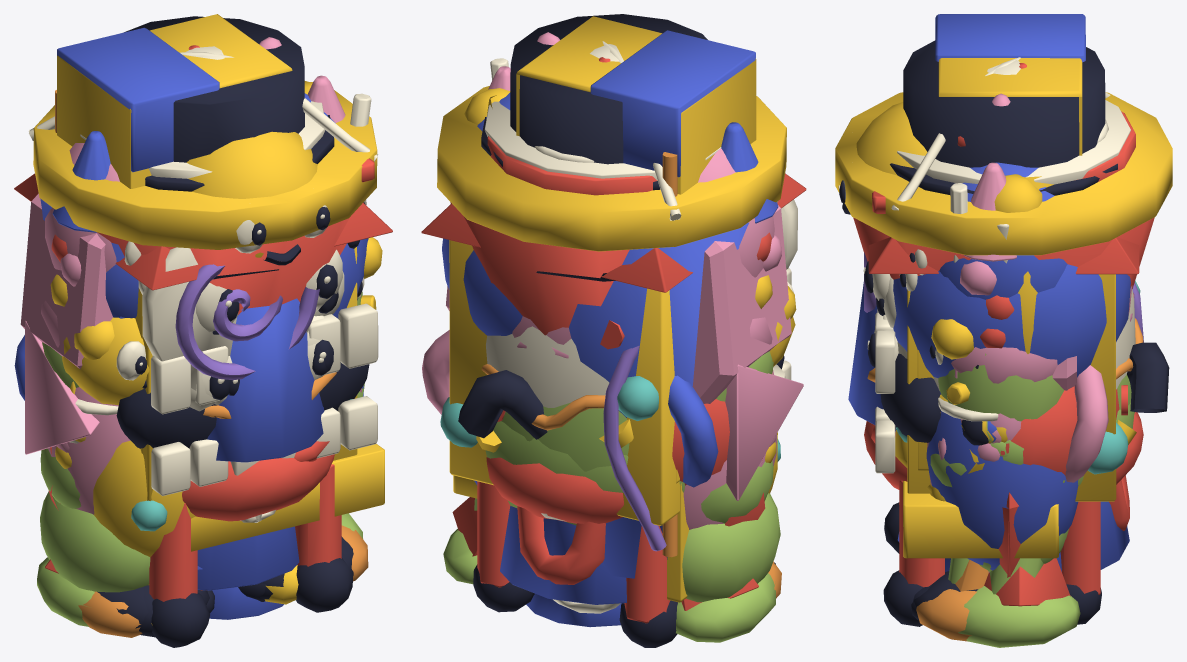
File: toy-racers-economy.glb
3 renders of one model, left to right at view 1: azimuth 30°, elevation 25°; view 2: azimuth 150°, elevation 25°; view 3: azimuth 270°, elevation 25°, orthographic. The views are drawn at different scales.
Parts seen in each view (by area): view 1: heckler_toy-yellow.001, mouth_toy-paper.001, centaur_toy-blue.001, centaur_toy-red.001, stickler_toy-blue.001, stickler_toy-yellow.001, magician_toy-ink.001, sisyphus_toy-yellow.001, centaur_toy-yellow.001, romantic_toy-pink.001, inchworm_toy-green.001, heckler_toy-red.001 (+30 smaller); view 2: heckler_toy-yellow.001, dicemonger_toy-yellow.001, stickler_toy-yellow.001, stickler_toy-blue.001, centaur_toy-red.001, hypnotist_toy-blue.001, magician_toy-ink.001, romantic_toy-pink.001, heckler_toy-red.001, leaptoad_toy-green.001, centaur_toy-ink.001, inchworm_toy-green.001 (+25 smaller); view 3: heckler_toy-yellow.001, magician_toy-ink.001, twin_toy-blue.001, sisyphus_toy-blue.001, stickler_toy-blue.001, centaur_toy-red.001, leaptoad_toy-green.001, scoocher_toy-yellow.001, stickler_toy-yellow.001, centaur_toy-ink.001, inchworm_toy-green.001, dicemonger_toy-yellow.001 (+33 smaller).
Part boxes in pixels (<box>): heckler_toy-yellow.001: <box>33,81,377,249</box>; mouth_toy-paper.001: <box>151,303,378,496</box>; centaur_toy-blue.001: <box>207,298,324,462</box>; centaur_toy-red.001: <box>149,454,341,601</box>; stickler_toy-blue.001: <box>57,27,219,172</box>; stickler_toy-yellow.001: <box>57,14,292,585</box>; magician_toy-ink.001: <box>124,16,304,279</box>; sisyphus_toy-yellow.001: <box>62,317,298,625</box>; centaur_toy-yellow.001: <box>74,131,382,359</box>; romantic_toy-pink.001: <box>20,193,360,369</box>; inchworm_toy-green.001: <box>40,291,364,592</box>; heckler_toy-red.001: <box>97,217,349,314</box>; heckler_toy-yellow.001: <box>437,86,786,251</box>; dicemonger_toy-yellow.001: <box>449,240,679,525</box>; stickler_toy-yellow.001: <box>516,16,756,602</box>; stickler_toy-blue.001: <box>590,30,755,177</box>; centaur_toy-red.001: <box>477,457,670,623</box>; hypnotist_toy-blue.001: <box>569,222,748,578</box>; magician_toy-ink.001: <box>510,14,707,281</box>; romantic_toy-pink.001: <box>446,205,791,403</box>; heckler_toy-red.001: <box>450,202,629,335</box>; leaptoad_toy-green.001: <box>443,421,775,642</box>; centaur_toy-ink.001: <box>458,370,677,647</box>; inchworm_toy-green.001: <box>682,493,780,602</box>; heckler_toy-yellow.001: <box>835,92,1172,255</box>; magician_toy-ink.001: <box>903,40,1105,167</box>; twin_toy-blue.001: <box>926,162,1078,570</box>; sisyphus_toy-blue.001: <box>893,264,1130,377</box>; stickler_toy-blue.001: <box>935,14,1085,62</box>; centaur_toy-red.001: <box>864,412,1143,594</box>; leaptoad_toy-green.001: <box>958,403,1134,647</box>; scoocher_toy-yellow.001: <box>903,481,1058,558</box>; stickler_toy-yellow.001: <box>938,58,1082,155</box>; centaur_toy-ink.001: <box>839,180,1169,626</box>; inchworm_toy-green.001: <box>930,353,1065,583</box>; dicemonger_toy-yellow.001: <box>907,274,1116,501</box>.
Bounding box in the file's own units: 0.5898 × 1.01 × 0.5898.
